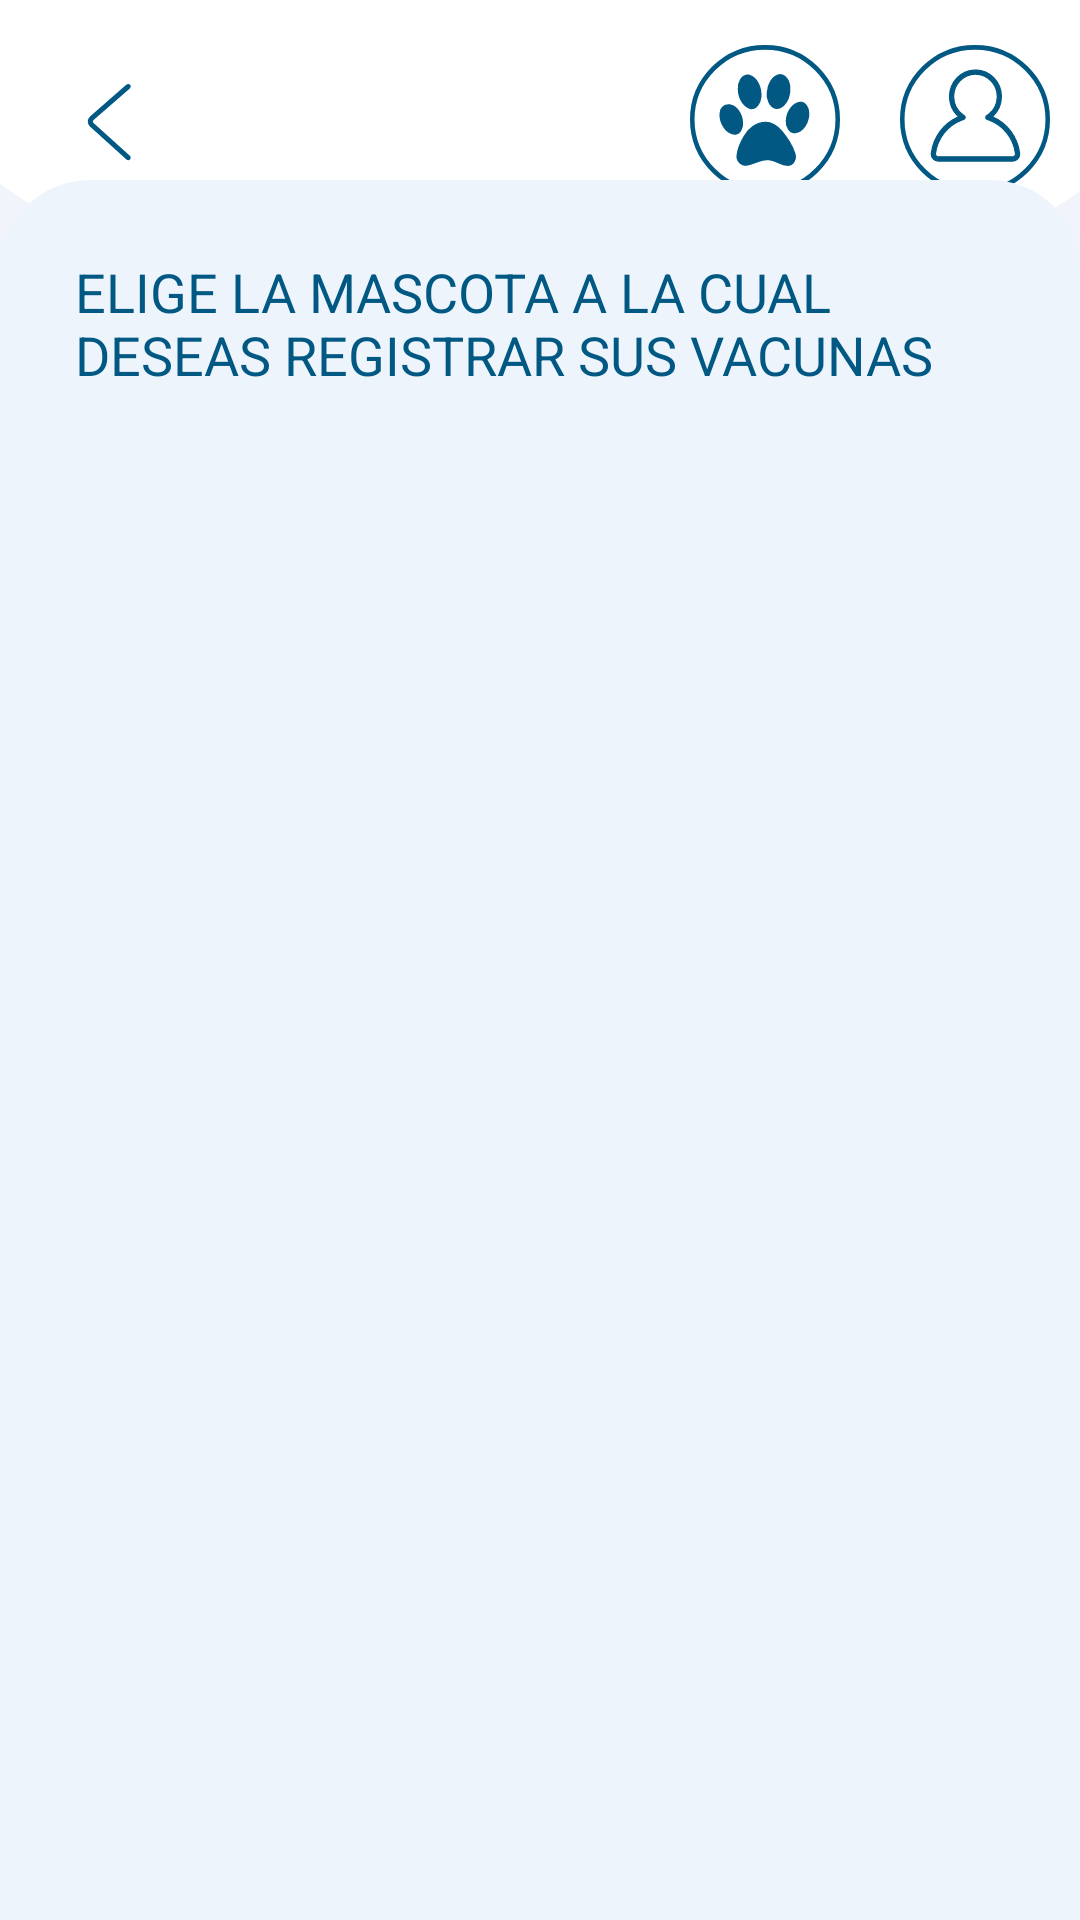

Icons on this 1080x1920 Android screen, each with its box as (x1, y1, x2, y2):
back arrow: (87, 84, 131, 161)
huella: (690, 45, 840, 180)
